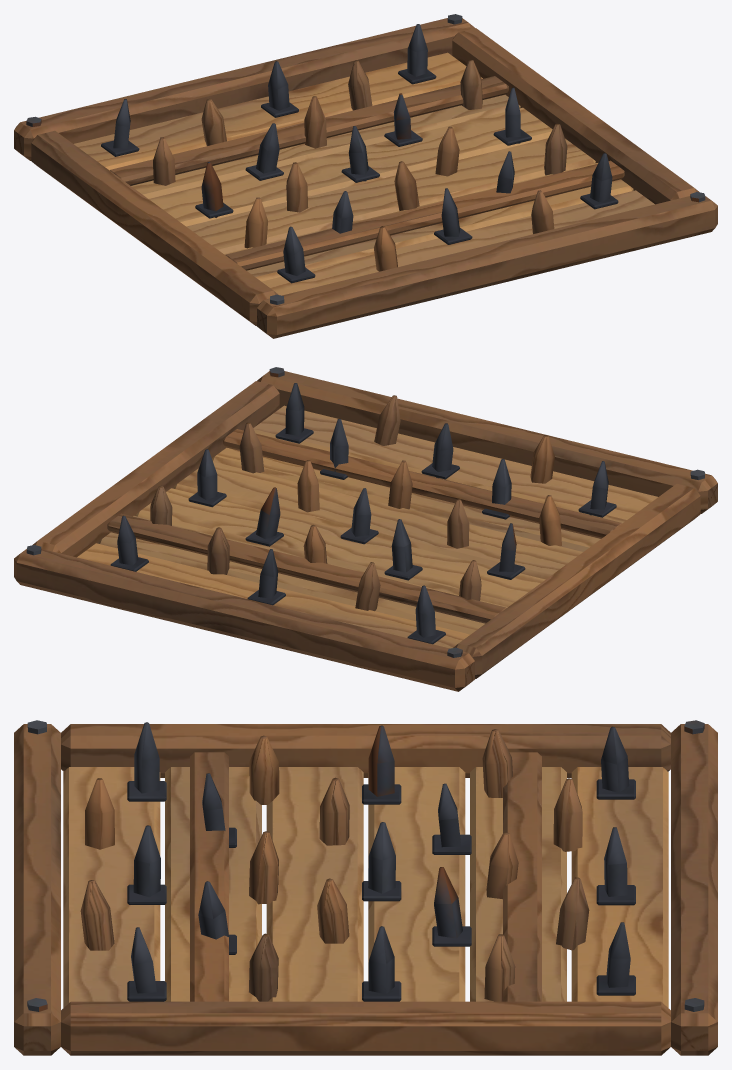
The model's file is diken_tarlasi.glb.
The picture shows the model from 3 angles, top to bottom: view 1: azimuth 30°, elevation 25°; view 2: azimuth 150°, elevation 25°; view 3: azimuth 270°, elevation 25°; orthographic projection. The views are drawn at different scales.
Visible parts, largest first — view 1: diken_tarlasi; view 2: diken_tarlasi; view 3: diken_tarlasi.
Boxes of the visible parts, box(x1,y1,x2,y2) form: diken_tarlasi: box(14, 14, 717, 338); diken_tarlasi: box(14, 367, 717, 691); diken_tarlasi: box(14, 720, 717, 1055).
Bounding box in the file's own units: 1.8 × 0.2411 × 1.8.
1 material, 1 textured.
